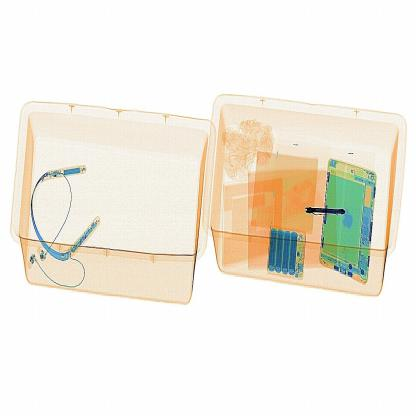knife: (302, 203, 348, 221)
